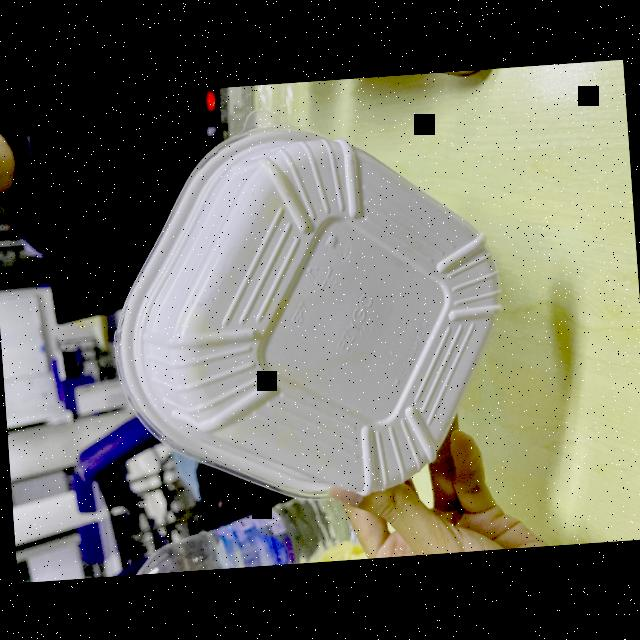plastic_box: (100, 112, 510, 506)
